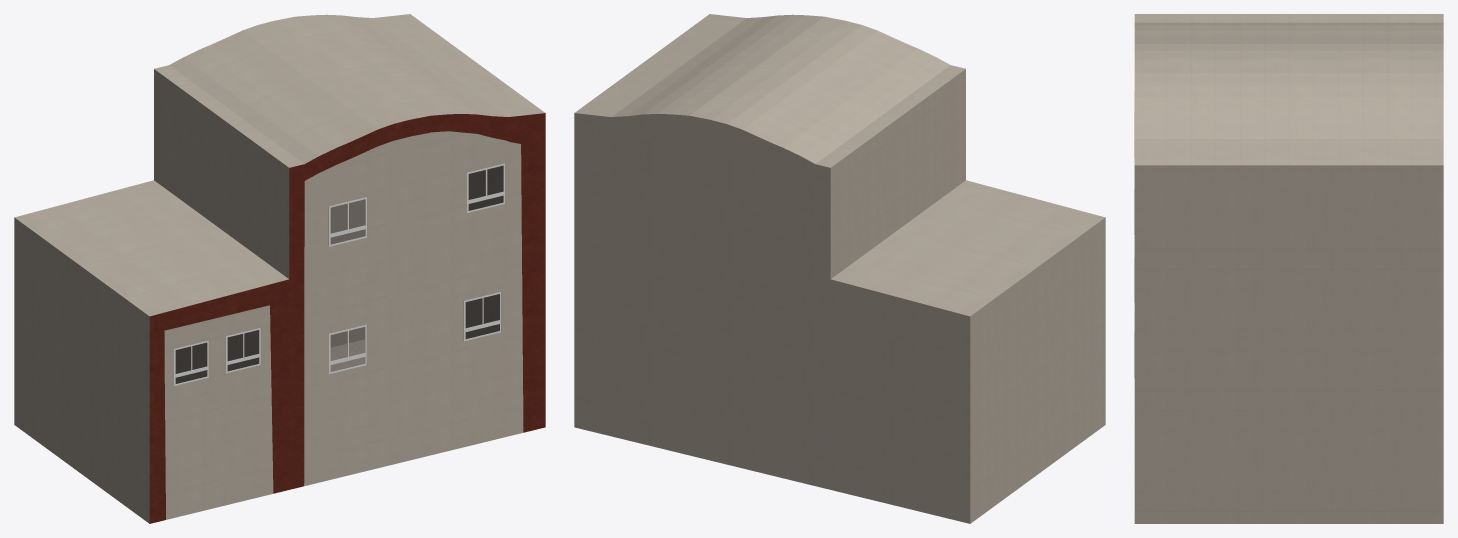
Rendered from 3rd HOUSE.fbx.
3 renders of one model, left to right at view 1: azimuth 30°, elevation 25°; view 2: azimuth 150°, elevation 25°; view 3: azimuth 270°, elevation 25°, orthographic. The views are drawn at different scales.
Parts seen in each view (by area): view 1: HOUSE, Window_Mirror, WINDOW; view 2: HOUSE; view 3: HOUSE.
Boxes of the visible parts, left/top/right/bottom form: HOUSE: left=14, top=14, right=545, bottom=523; Window_Mirror: left=176, top=166, right=503, bottom=383; WINDOW: left=174, top=163, right=504, bottom=385; HOUSE: left=574, top=14, right=1105, bottom=523; HOUSE: left=1134, top=14, right=1443, bottom=523.
Bounding box in the file's own units: 5.59 × 4.6 × 3.31.
Materials: 4 (2 with a texture image).
